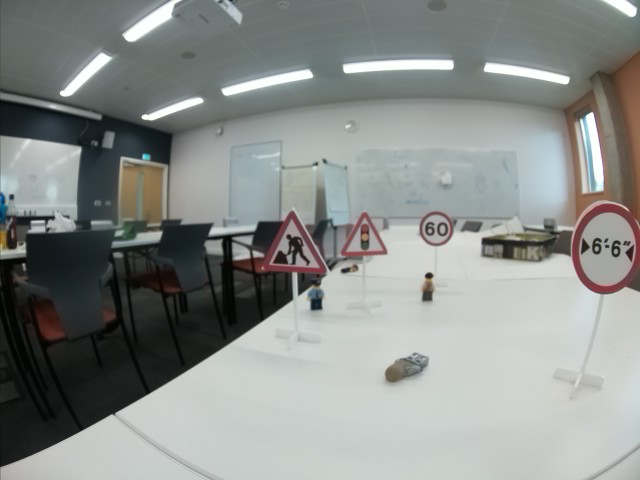60mph: (419, 211, 453, 247)
6ft6: (571, 201, 636, 295)
Lego Man: (384, 348, 431, 386), (308, 277, 327, 313), (420, 270, 436, 305), (338, 264, 360, 275)
Roadworks: (260, 210, 324, 273)
Traffic lights: (339, 212, 388, 256)
